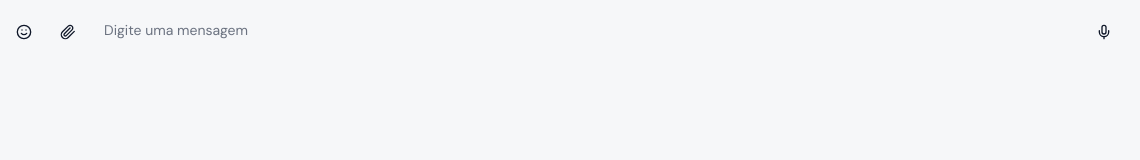
Test case: BarraDigitacao + nota de voz › com texto digitado o microfone dá lugar ao Enviar
In the text box labelled "mensagem": (586, 30) [92, 10, 1080, 50], type "oi"
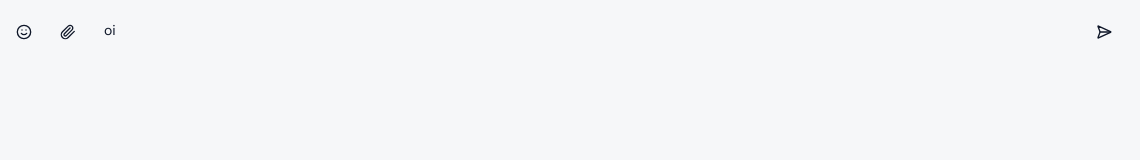
Expected: the button named "Enviar" is shown, [1084, 12, 1124, 52]
